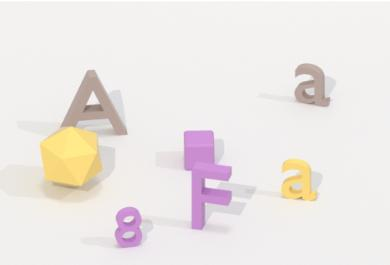0-KhoiVuong: (177, 125, 220, 173)
0-TronCanh: (37, 123, 107, 191)
8: (110, 204, 147, 252)
A: (55, 66, 134, 144)
F: (188, 159, 237, 234)
a: (277, 152, 322, 207), (290, 57, 333, 110)
